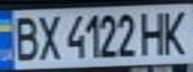1: (81, 10, 103, 58)
2: (115, 9, 142, 58), (96, 10, 121, 60)
4: (63, 10, 84, 60)
B: (6, 12, 42, 62)
H: (139, 7, 172, 56)
K: (157, 6, 193, 56)
X: (33, 11, 63, 61)
